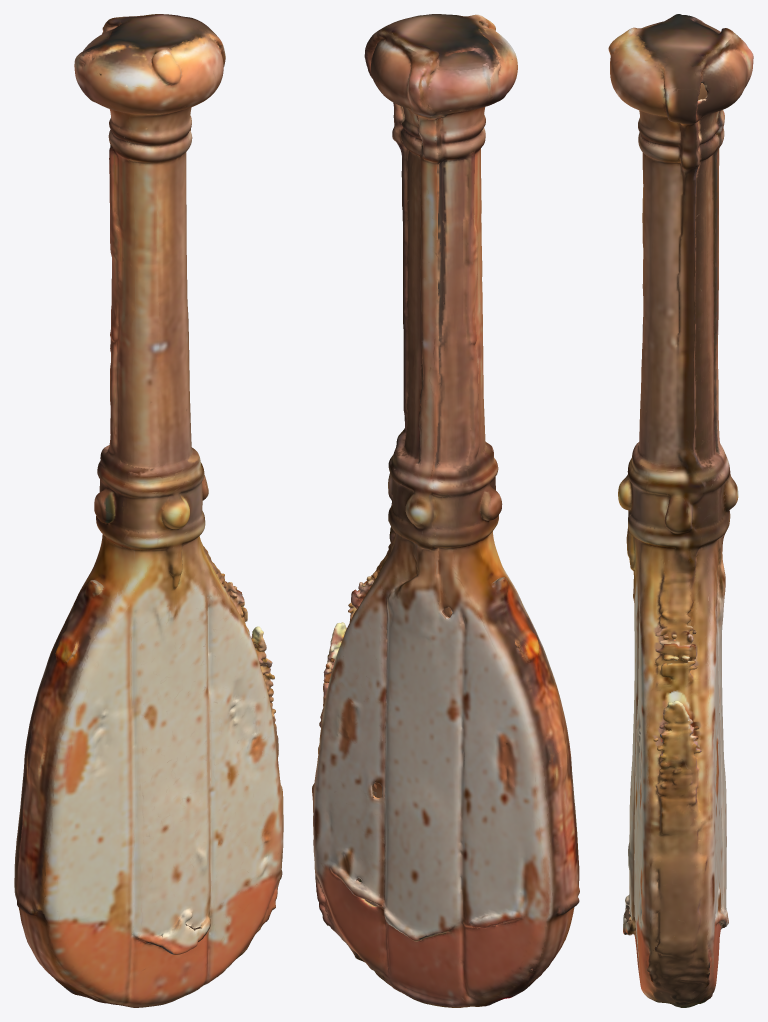
3 views of the same model, side by side, from view 1: azimuth 30°, elevation 25°; view 2: azimuth 150°, elevation 25°; view 3: azimuth 270°, elevation 25° (orthographic).
Visible parts, largest first — view 1: D4O_船桨; view 2: D4O_船桨; view 3: D4O_船桨.
Part boxes in pixels (x1,y1,x2,y2): D4O_船桨: (14, 14, 283, 1007); D4O_船桨: (312, 14, 579, 1007); D4O_船桨: (608, 14, 753, 1007).
Size of the model in its own units: 0.4078 by 1.5 by 0.2051.
1 material, 1 textured.
